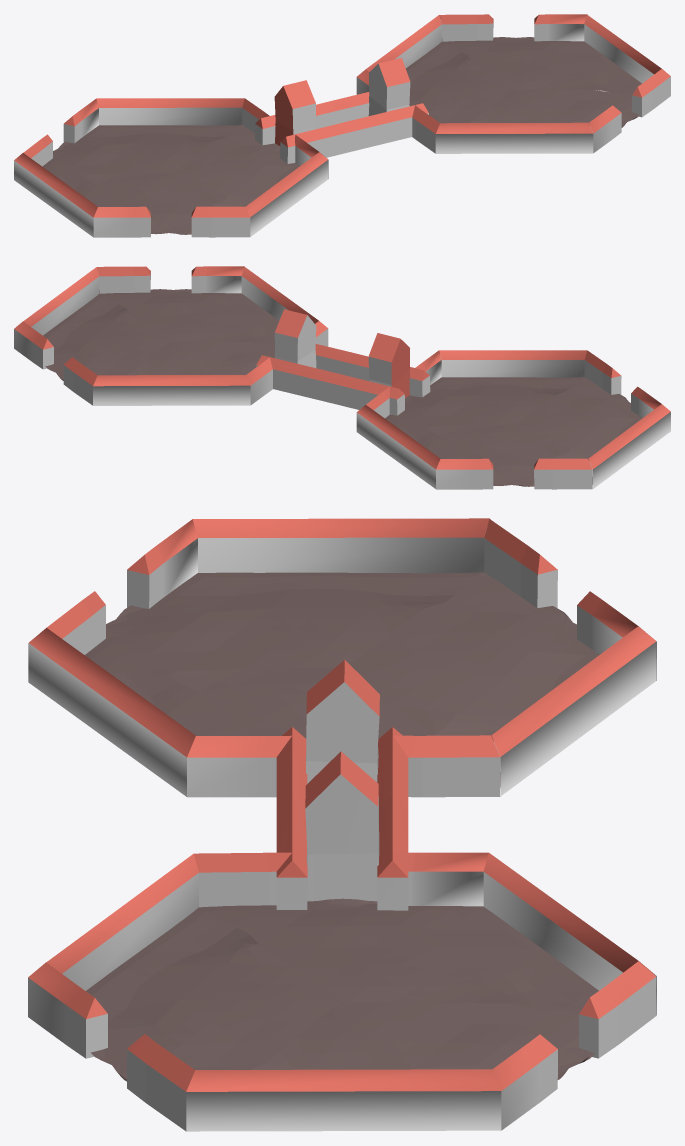
Rendered from street_cleanup.fbx.
3 renders of one model, top to bottom at view 1: azimuth 30°, elevation 25°; view 2: azimuth 150°, elevation 25°; view 3: azimuth 270°, elevation 25°, orthographic. The views are drawn at different scales.
Parts seen in each view (by area): view 1: placa_gorund.001, placa_gorund.002, street.001, churchdoor, churchdoor.001; view 2: placa_gorund.001, placa_gorund.002, street.001, churchdoor, churchdoor.001; view 3: placa_gorund.002, placa_gorund.001, street.001, churchdoor.001, churchdoor.
Boxes of the visible parts, box(x1,y1,x2,y2) form: placa_gorund.001: box(14, 98, 328, 237); placa_gorund.002: box(356, 14, 670, 153); street.001: box(255, 92, 428, 163); churchdoor: box(274, 80, 315, 145); churchdoor.001: box(368, 58, 410, 115); placa_gorund.001: box(356, 350, 670, 489); placa_gorund.002: box(14, 266, 328, 405); street.001: box(256, 344, 430, 415); churchdoor: box(368, 333, 409, 397); churchdoor.001: box(274, 309, 316, 368); placa_gorund.002: box(28, 852, 656, 1131); placa_gorund.001: box(28, 518, 656, 797); street.001: box(276, 727, 408, 910); churchdoor.001: box(305, 751, 379, 901); churchdoor: box(306, 659, 379, 783).
Size of the model in its own units: 167 by 18.26 by 78.47.
